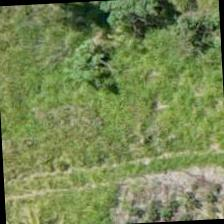Kelapa_Sawit: (99, 0, 193, 54)
